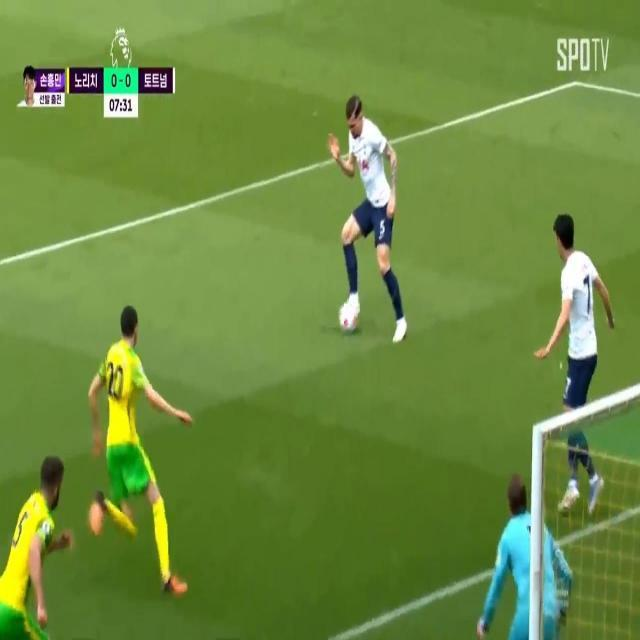ball: (337, 287, 357, 341)
goalkeeper: (472, 430, 578, 640)
player: (85, 301, 185, 594), (535, 201, 609, 527), (323, 87, 410, 349), (0, 453, 72, 640)
